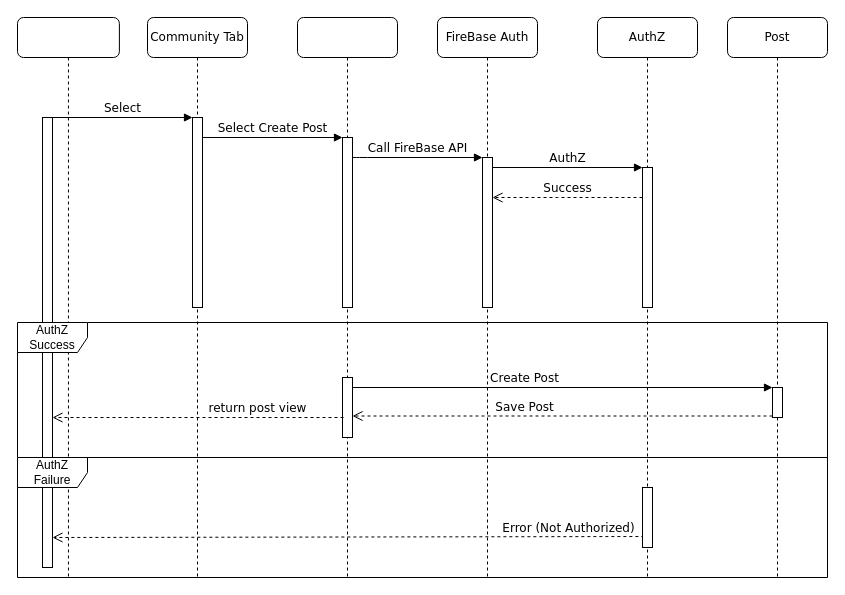
This 845x595 diagram has some shape labels left out. The shapes that lost their labels are listed below. From the top down, each one's box as (x1, y1, x2, y2) in pixels, then its label:
(16, 16, 119, 578): User
(296, 16, 398, 578): FireBase DB
